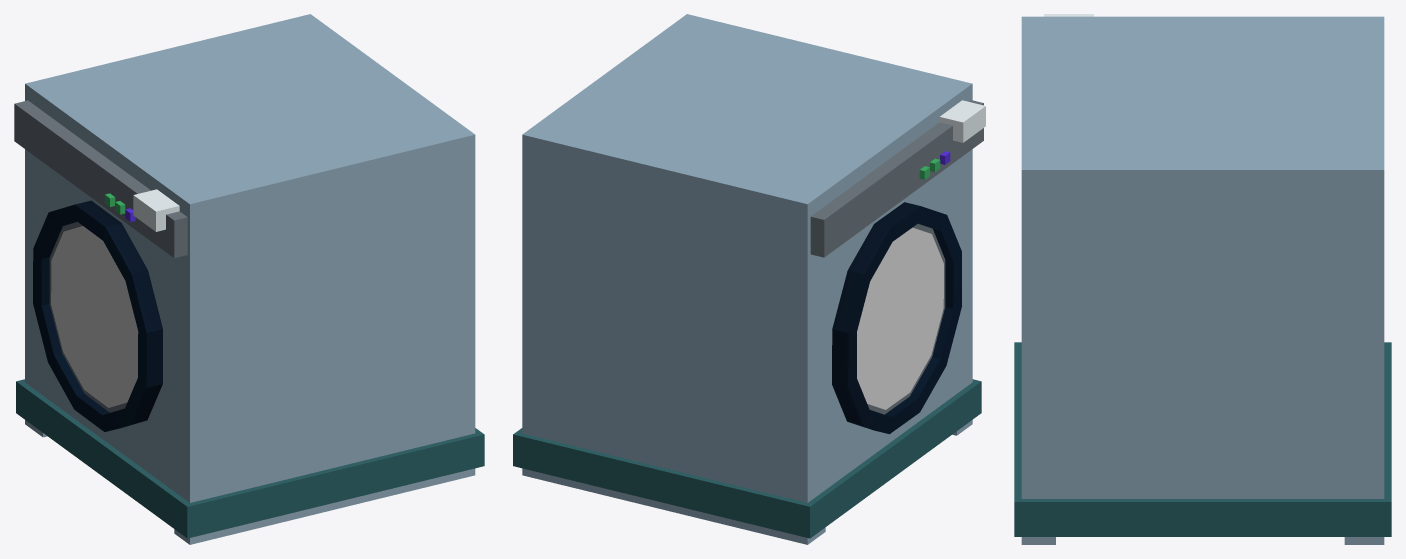
File: Interior_WasherFront.fbx
3 renders of one model, left to right at view 1: azimuth 30°, elevation 25°; view 2: azimuth 150°, elevation 25°; view 3: azimuth 270°, elevation 25°, orthographic. The views are drawn at different scales.
Visible parts, largest first — view 1: Cube.391; view 2: Cube.391; view 3: Cube.391.
Part boxes in pixels (x1=…): Cube.391: x1=14, y1=14, x2=484, y2=544; Cube.391: x1=513, y1=14, x2=985, y2=544; Cube.391: x1=1014, y1=14, x2=1391, y2=544.
Size of the model in its own units: 65.17 by 67.37 by 61.48.
